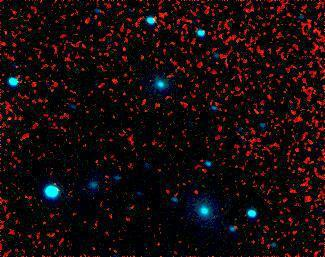star: (181, 178, 211, 208)
